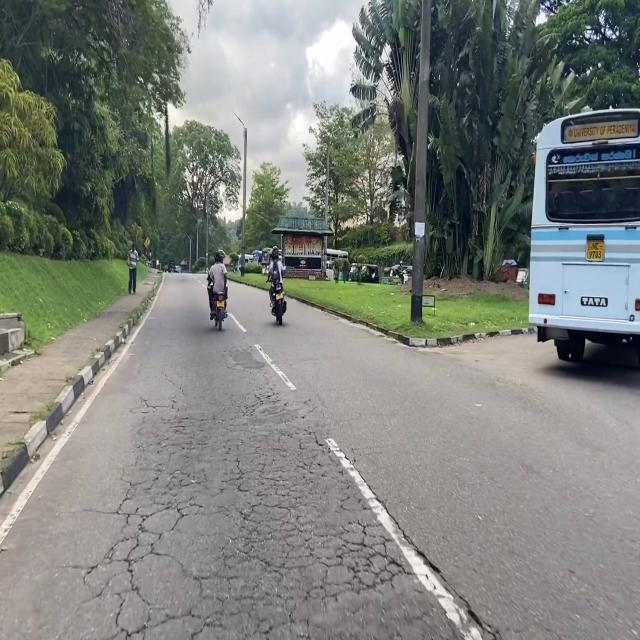bus: (529, 109, 640, 361), (326, 248, 348, 265), (238, 252, 254, 267), (262, 248, 271, 274), (253, 250, 263, 264)
motorcycle: (272, 281, 286, 325), (214, 293, 227, 330), (403, 271, 408, 284)
person: (208, 250, 227, 319), (268, 247, 284, 313), (127, 245, 138, 293)
three wheeler: (361, 265, 378, 283), (516, 268, 529, 289), (349, 264, 360, 282), (381, 268, 390, 284)
